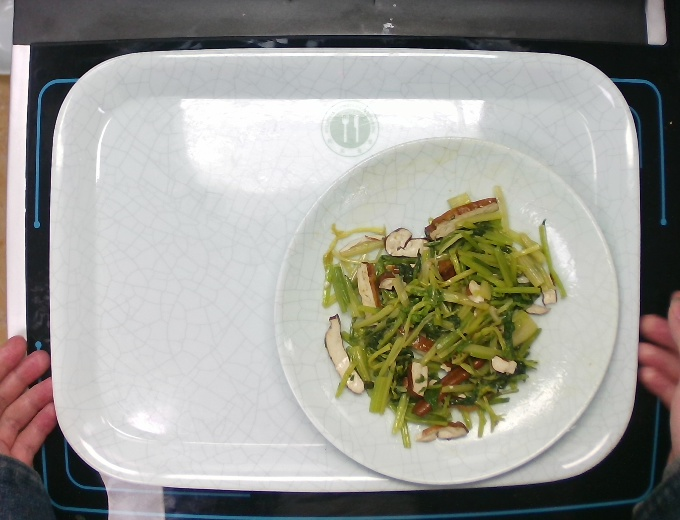JYsf-Da_Yuan_Pan: (271, 134, 621, 486)
